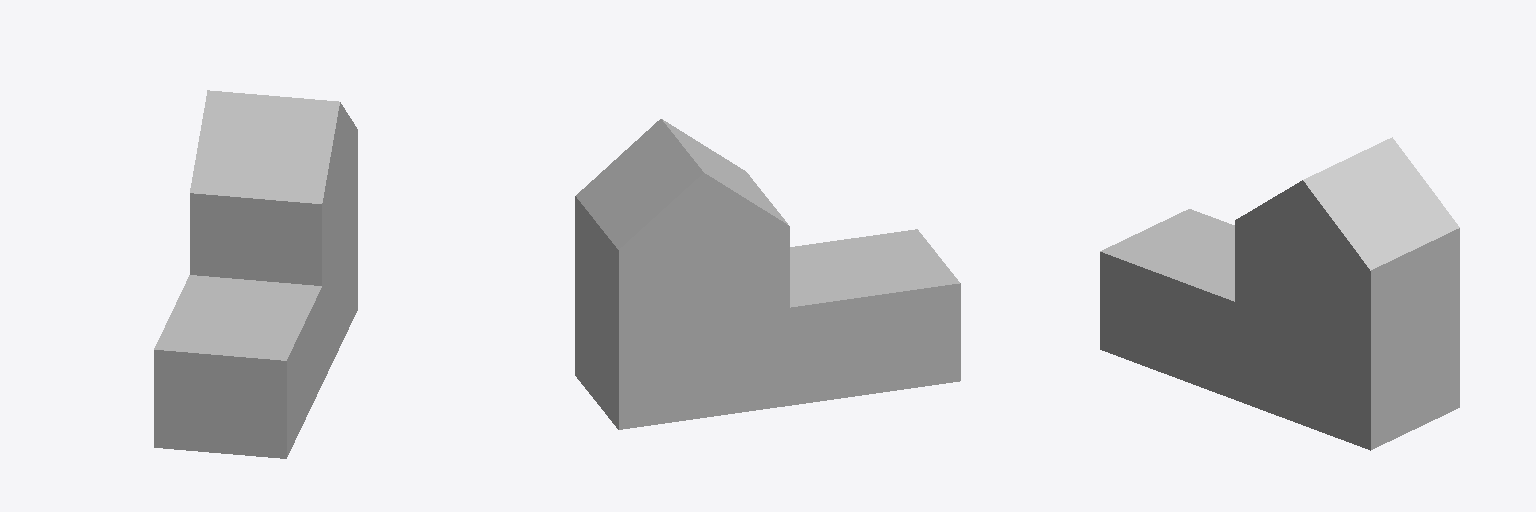
Rendered from stadt_blau.obj.
3 renders of one model, left to right at view 1: azimuth 30°, elevation 25°; view 2: azimuth 150°, elevation 25°; view 3: azimuth 270°, elevation 25°, orthographic.
Visible parts, largest first — view 1: stadt_blau; view 2: stadt_blau; view 3: stadt_blau.
Part boxes in pixels (x1,y1,x2,y2): stadt_blau: (154, 90, 357, 458); stadt_blau: (575, 119, 960, 429); stadt_blau: (1100, 137, 1459, 450).
Size of the model in its own units: 0.322 by 0.2562 by 0.3409.